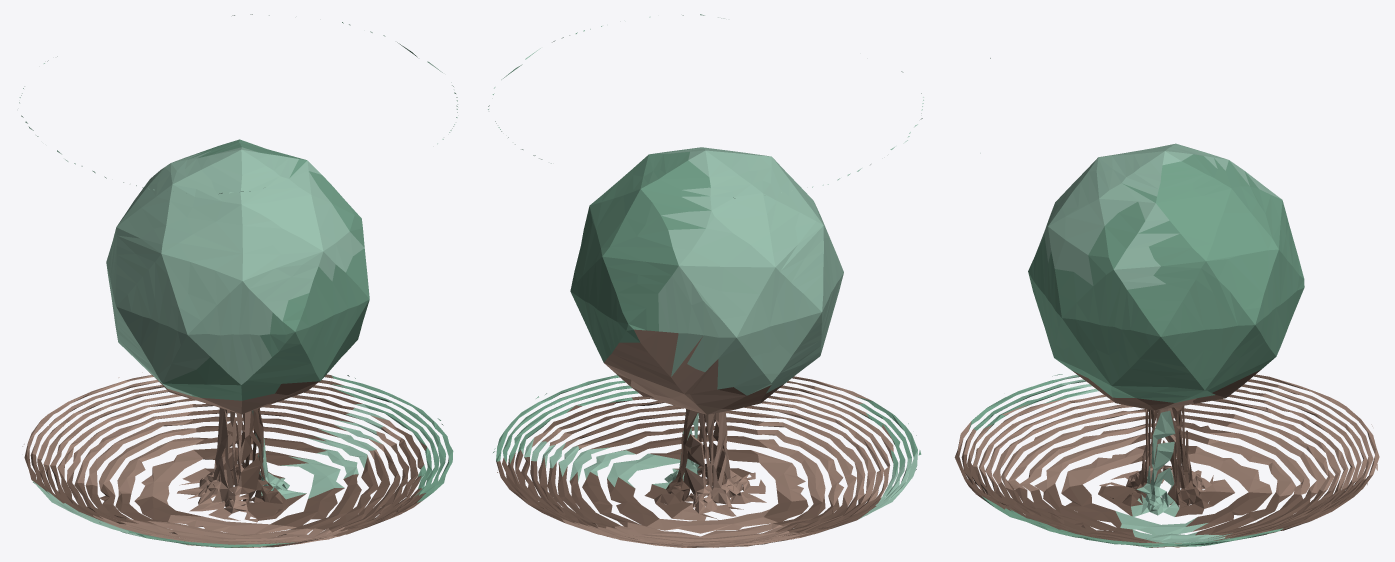
The model's file is tree_mint.glb.
3 renders of one model, left to right at view 1: azimuth 30°, elevation 25°; view 2: azimuth 150°, elevation 25°; view 3: azimuth 270°, elevation 25°, orthographic.
Parts seen in each view (by area): view 1: geometry_0; view 2: geometry_0; view 3: geometry_0.
Boxes of the visible parts, x1,y1,x2,y2 form: geometry_0: (19, 14, 457, 547); geometry_0: (488, 14, 923, 547); geometry_0: (954, 58, 1379, 547).
Bounding box in the file's own units: 1.98 × 1.98 × 1.97.
